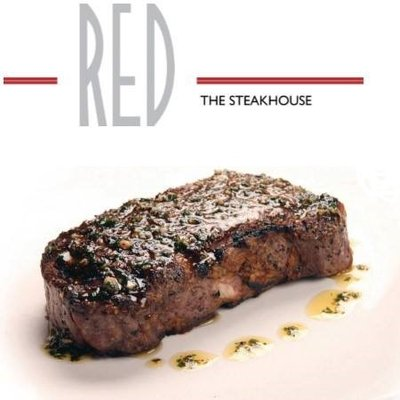pizza: (78, 1, 175, 128)
